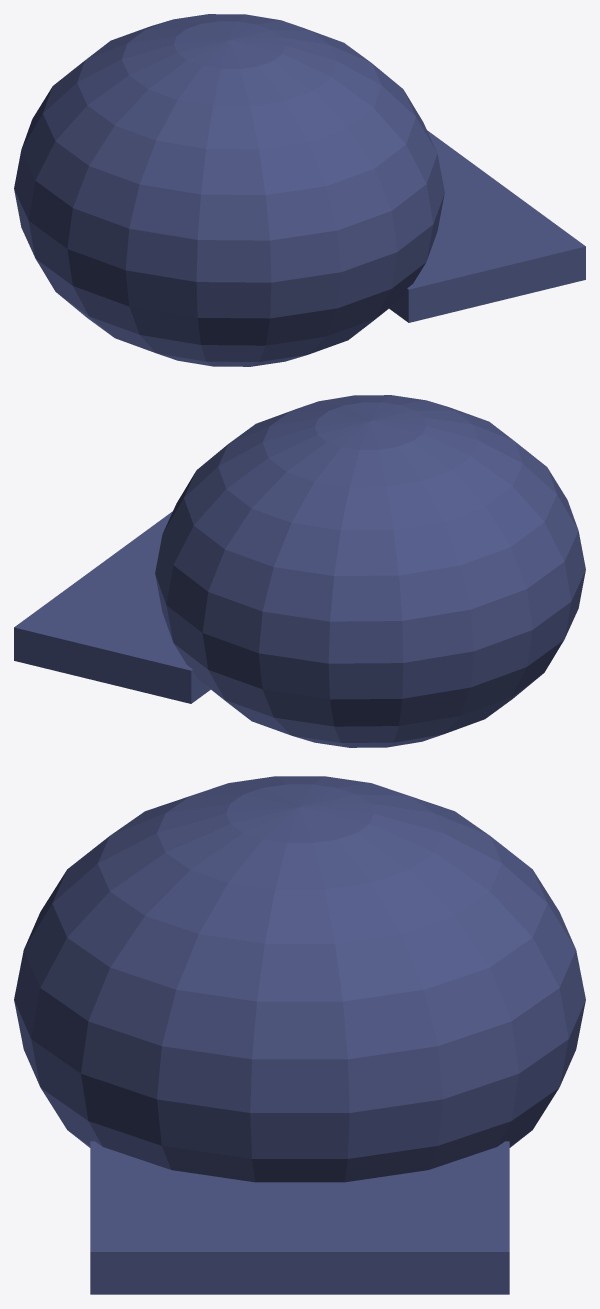
Rendered from SM_Hat_Police.fbx.
3 views of the same model, one above another, from view 1: azimuth 30°, elevation 25°; view 2: azimuth 150°, elevation 25°; view 3: azimuth 270°, elevation 25° (orthographic). The views are drawn at different scales.
Visible parts, largest first — view 1: SM_Hat_Police; view 2: SM_Hat_Police; view 3: SM_Hat_Police.
Boxes of the visible parts, bbox=[...] form: SM_Hat_Police: bbox=[14, 14, 585, 366]; SM_Hat_Police: bbox=[14, 395, 585, 747]; SM_Hat_Police: bbox=[14, 776, 585, 1294].
Bounding box in the file's own units: 25.74 × 21.84 × 16.22.
